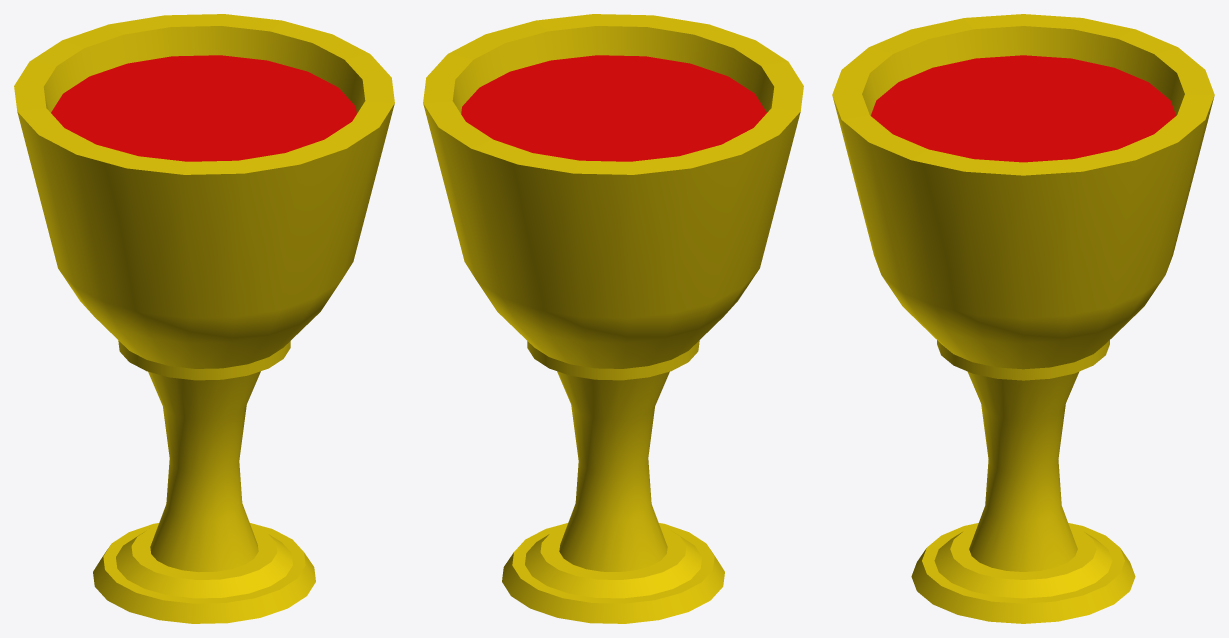
The model's file is Blood Challice.fbx.
The picture shows the model from 3 angles, left to right: view 1: azimuth 30°, elevation 25°; view 2: azimuth 150°, elevation 25°; view 3: azimuth 270°, elevation 25°; orthographic projection.
Visible parts, largest first — view 1: Cup, Liquid; view 2: Cup, Liquid; view 3: Cup, Liquid.
Part boxes in pixels (x1,y1,x2,y2): Cup: [14, 14, 394, 623]; Liquid: [51, 55, 356, 161]; Cup: [423, 14, 803, 623]; Liquid: [461, 55, 766, 161]; Cup: [832, 14, 1214, 623]; Liquid: [870, 55, 1176, 162].
Bounding box in the file's own units: 1.07 × 1.49 × 1.07.
